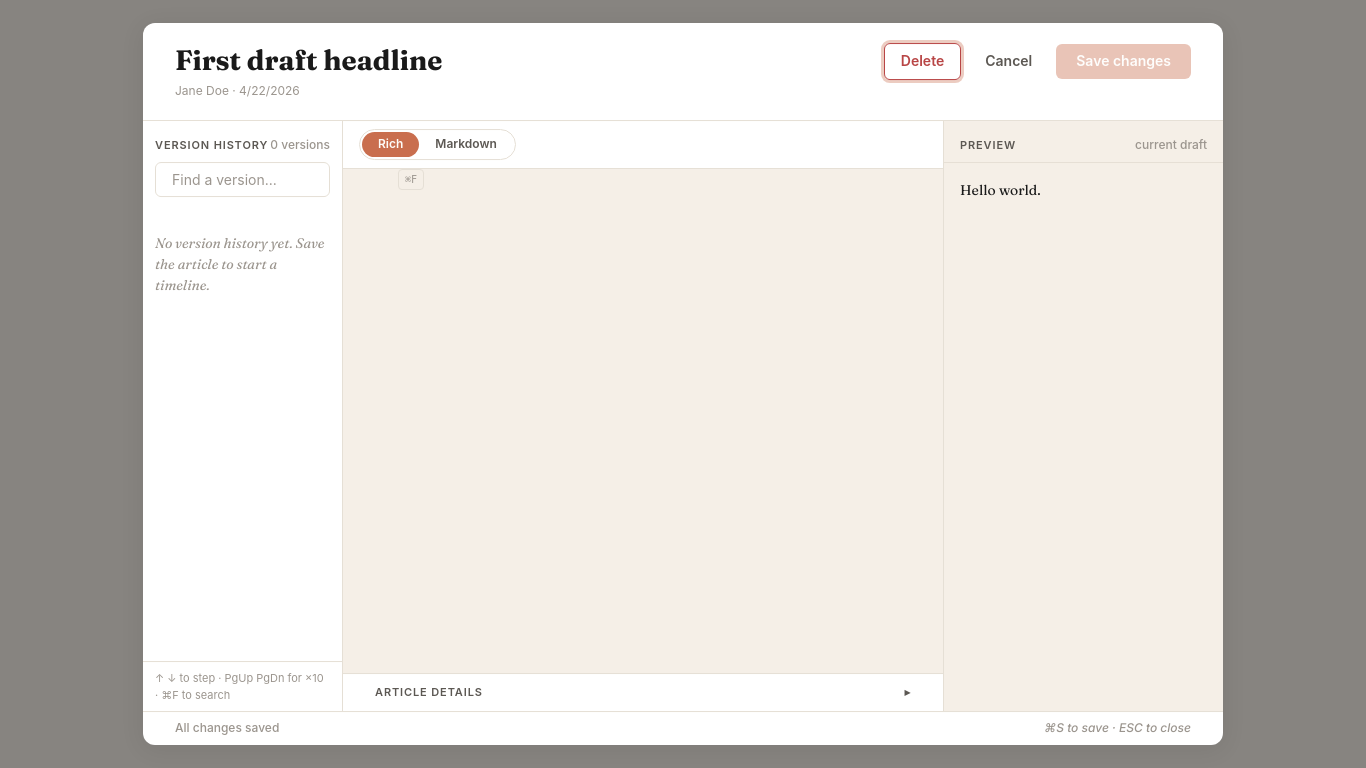
Test: <EditArticleModal> › Save button is disabled until the body becomes dirty
This screenshot has width=1366, height=768.
Expected: the button with test id "edit-article-submit" is disabled, [1056, 44, 1191, 79]
Click the button with test id "edit-article-details-toggle" at {"x": 429, "y": 692}, box [343, 674, 943, 711]
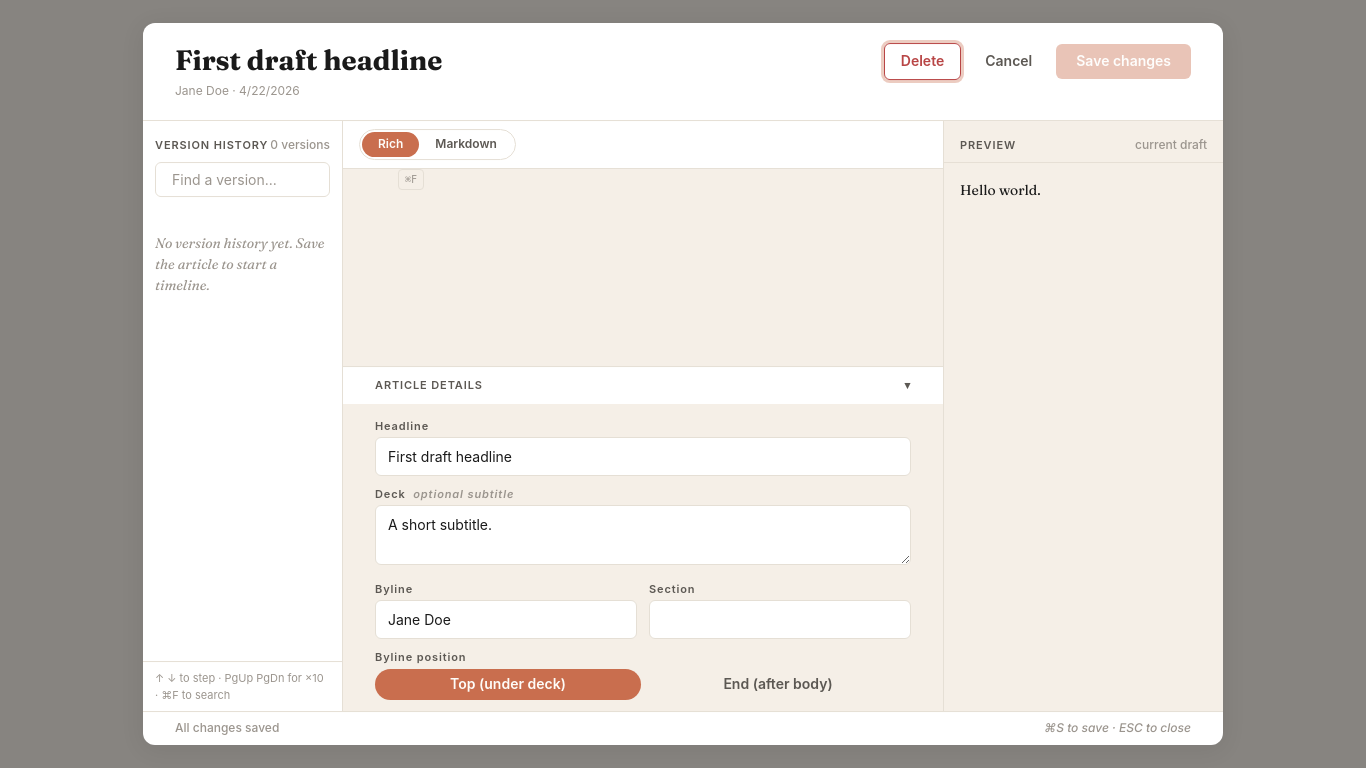
Replace the text in the field with test id "edit-article-headline" with "Updated headline" at {"x": 643, "y": 457}, box [375, 437, 911, 476]
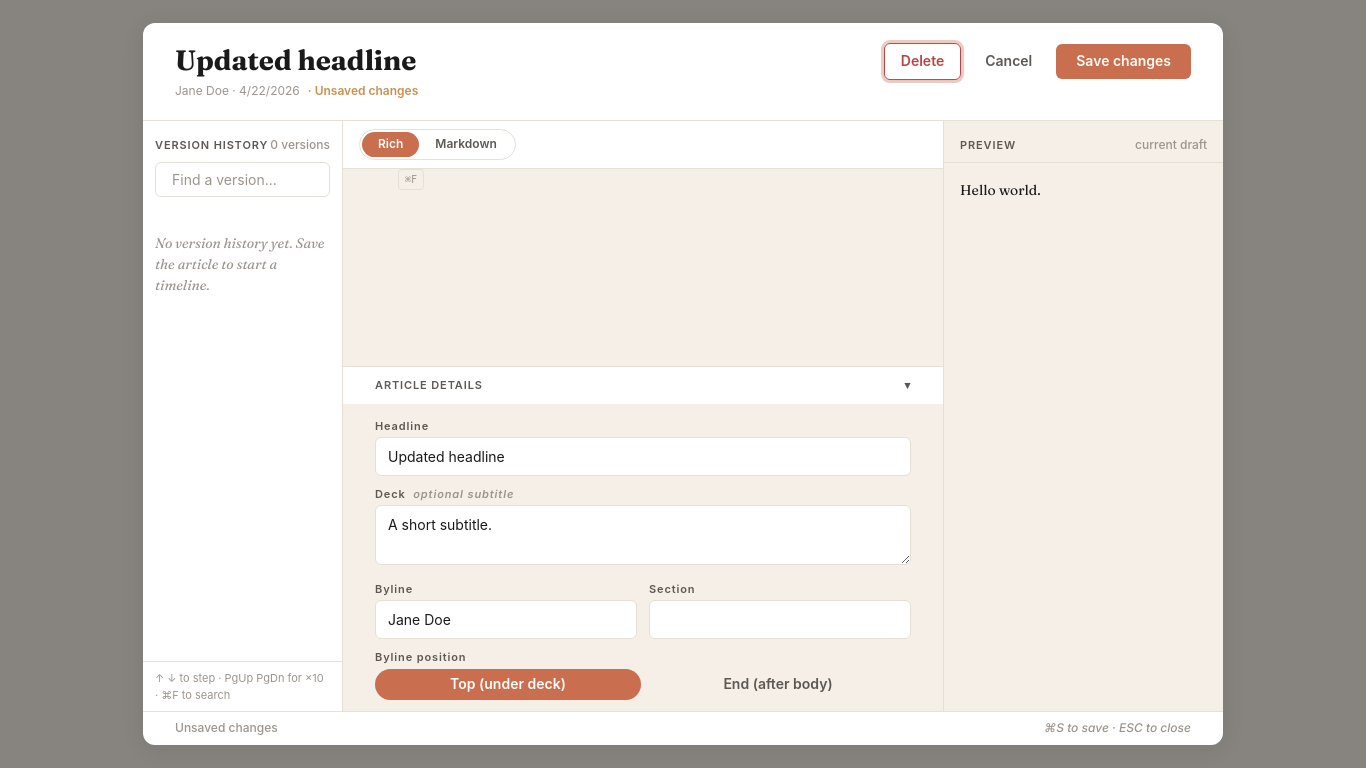
Now the text "· Unsaved changes" is shown, box [308, 83, 418, 98]
Now the button with test id "edit-article-submit" is enabled, box [1056, 44, 1191, 79]
